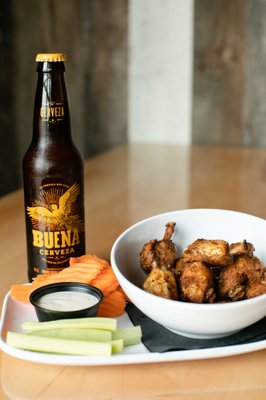sushi: (109, 208, 266, 338)
